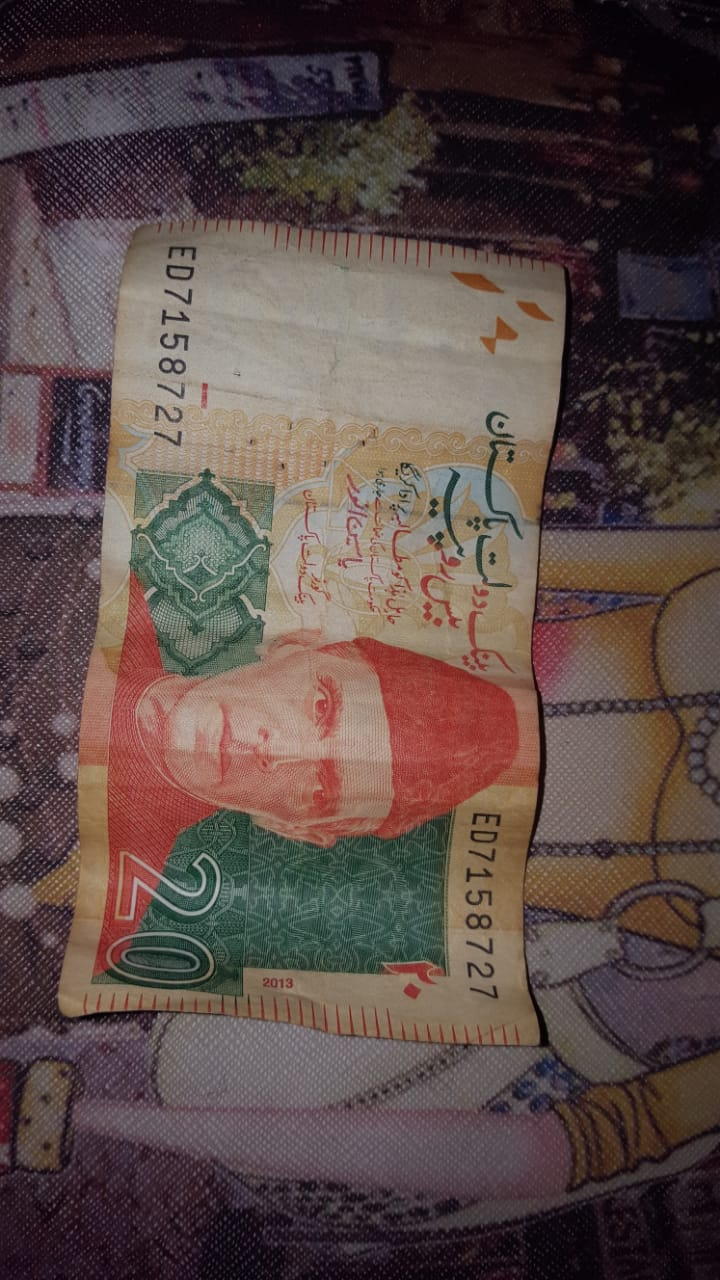20 rupee: (44, 199, 591, 1133)
